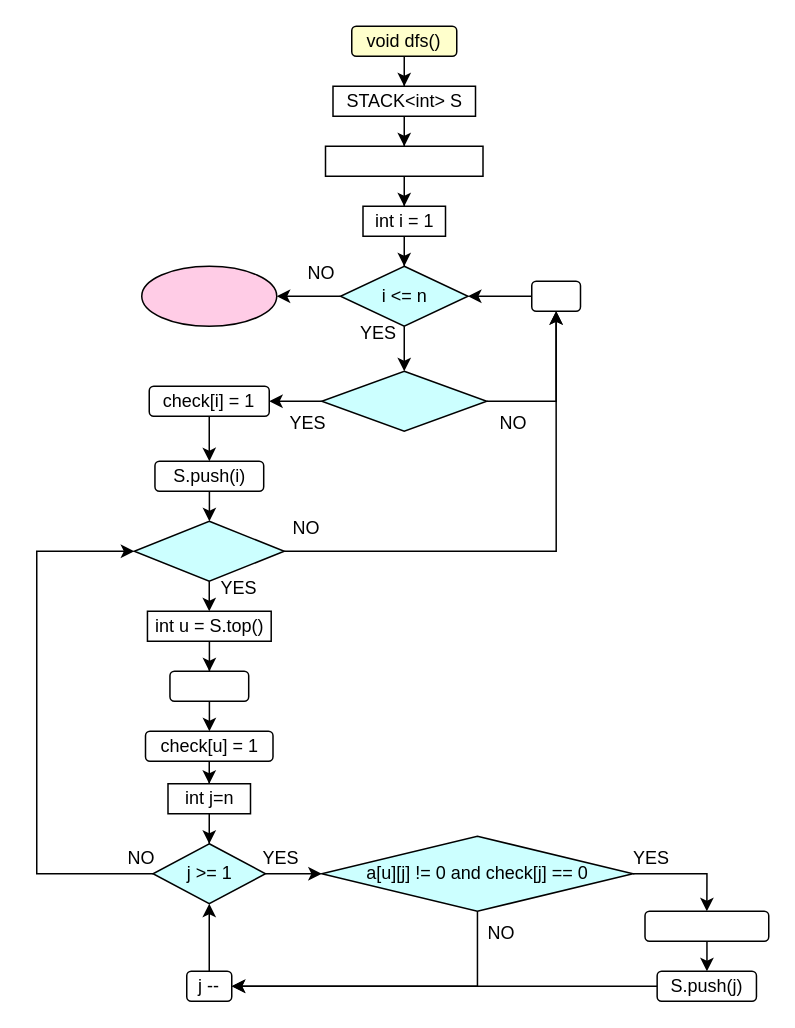
This 795x1028 diagram has some shape labels left out. Here are the shapes that lost their labels. From the top down, the centre of each, then its label:
(x=403, y=160): int check[n+5] = {}
(x=208, y=295): end
(x=555, y=295): i++
(x=403, y=400): check[i] == 0
(x=208, y=550): S.size() != 0
(x=208, y=685): S.pop()
(x=706, y=925): check[j] = 1
